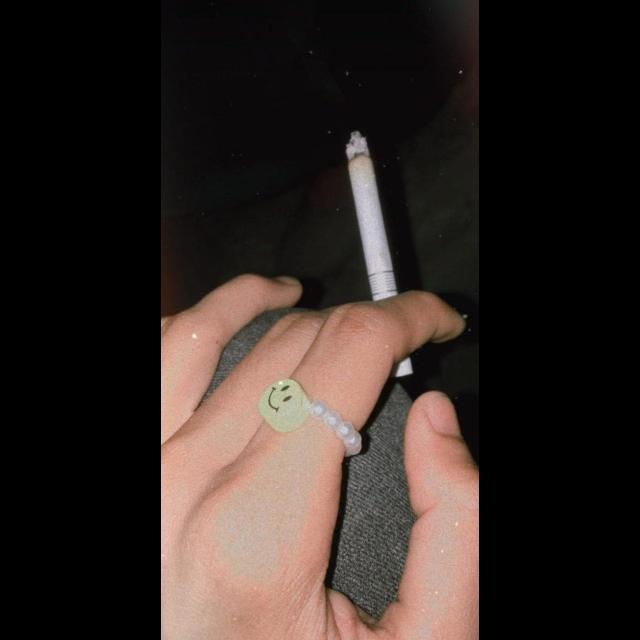rokok: (344, 124, 418, 378)
